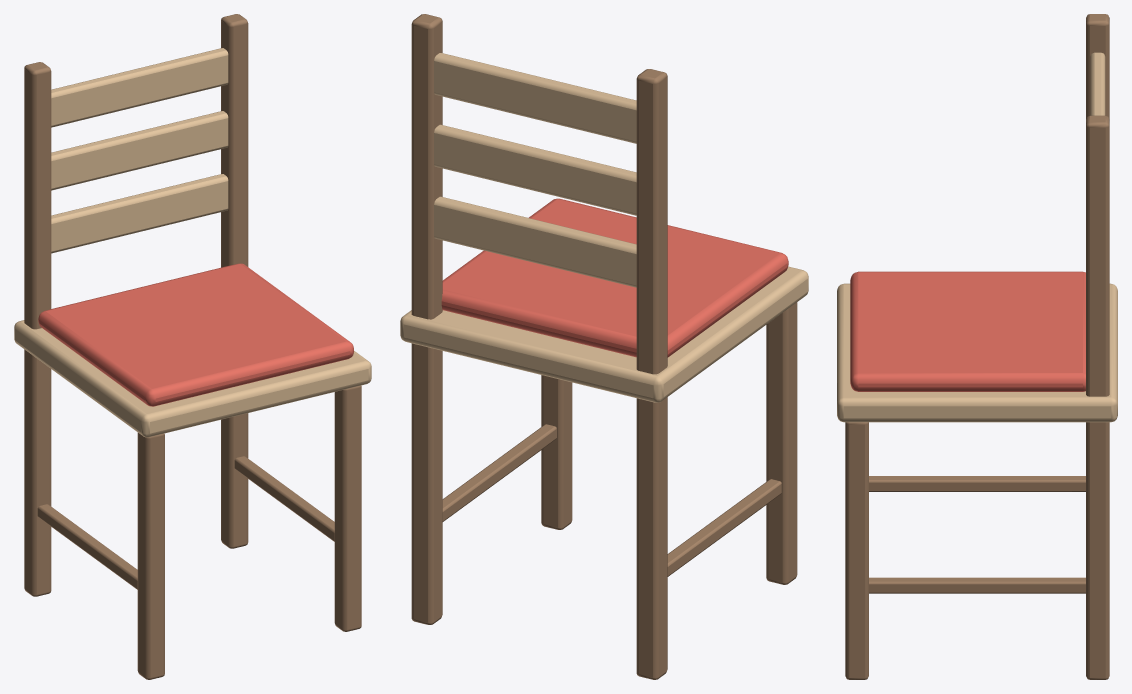
The model's file is Chair.fbx.
The picture shows the model from 3 angles, left to right: view 1: azimuth 30°, elevation 25°; view 2: azimuth 150°, elevation 25°; view 3: azimuth 270°, elevation 25°; orthographic projection. The views are drawn at different scales.
Visible parts, largest first — view 1: Chair; view 2: Chair; view 3: Chair.
Boxes of the visible parts, x1,y1,x2,y2 form: Chair: (14,14,371,679); Chair: (400,14,808,679); Chair: (837,14,1117,679).
Size of the model in its own units: 0.42 by 0.92 by 0.42.
